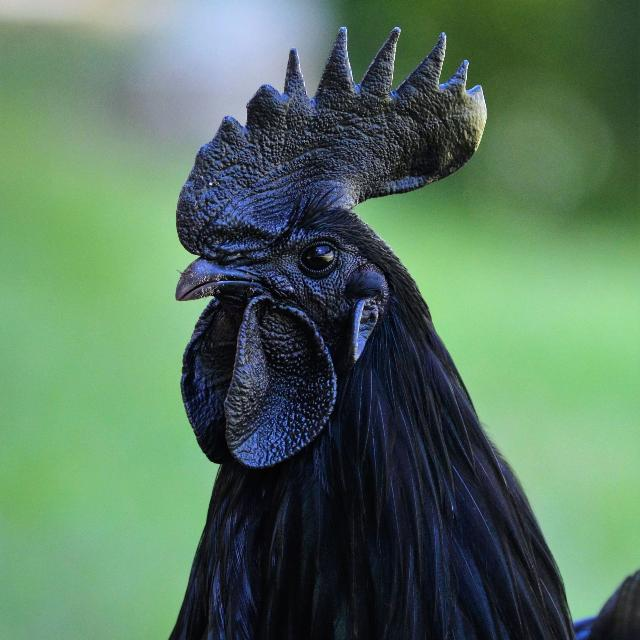Chicken: (171, 23, 640, 640)
